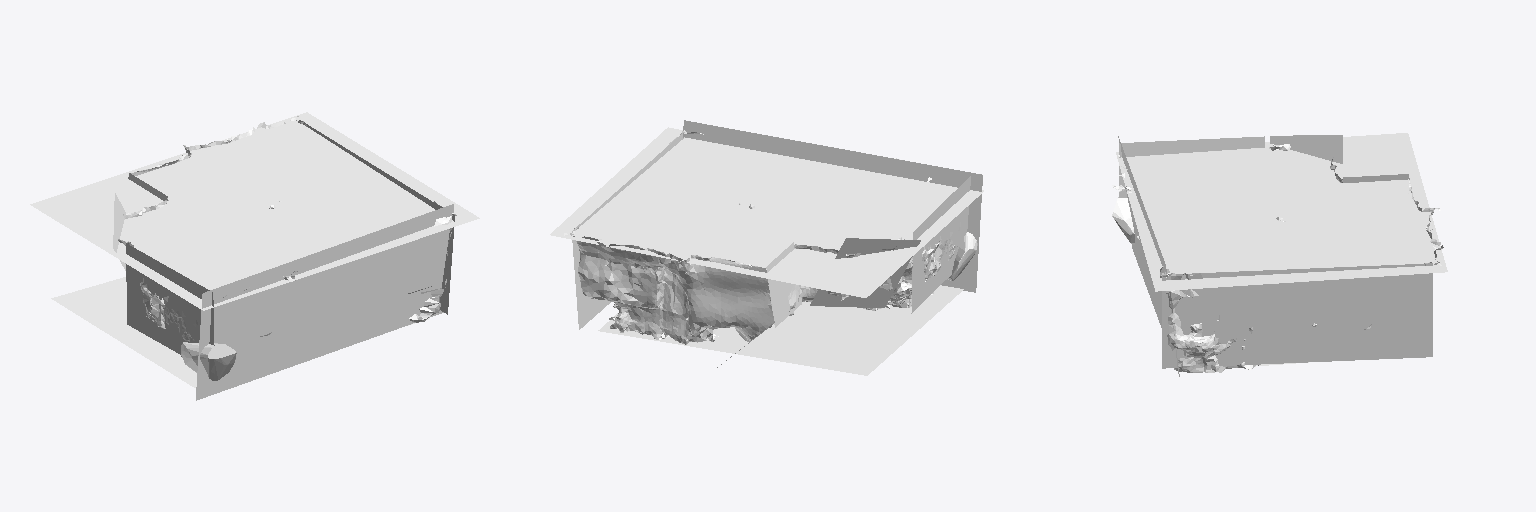
Rendered from papieGarage31Good.obj.
3 views of the same model, side by side, from view 1: azimuth 30°, elevation 25°; view 2: azimuth 150°, elevation 25°; view 3: azimuth 270°, elevation 25° (orthographic).
Size of the model in its own units: 174 by 69.59 by 156.